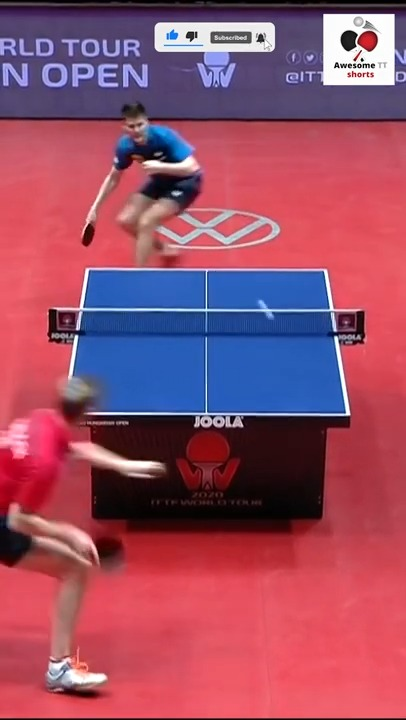Ball: (258, 302, 273, 319)
